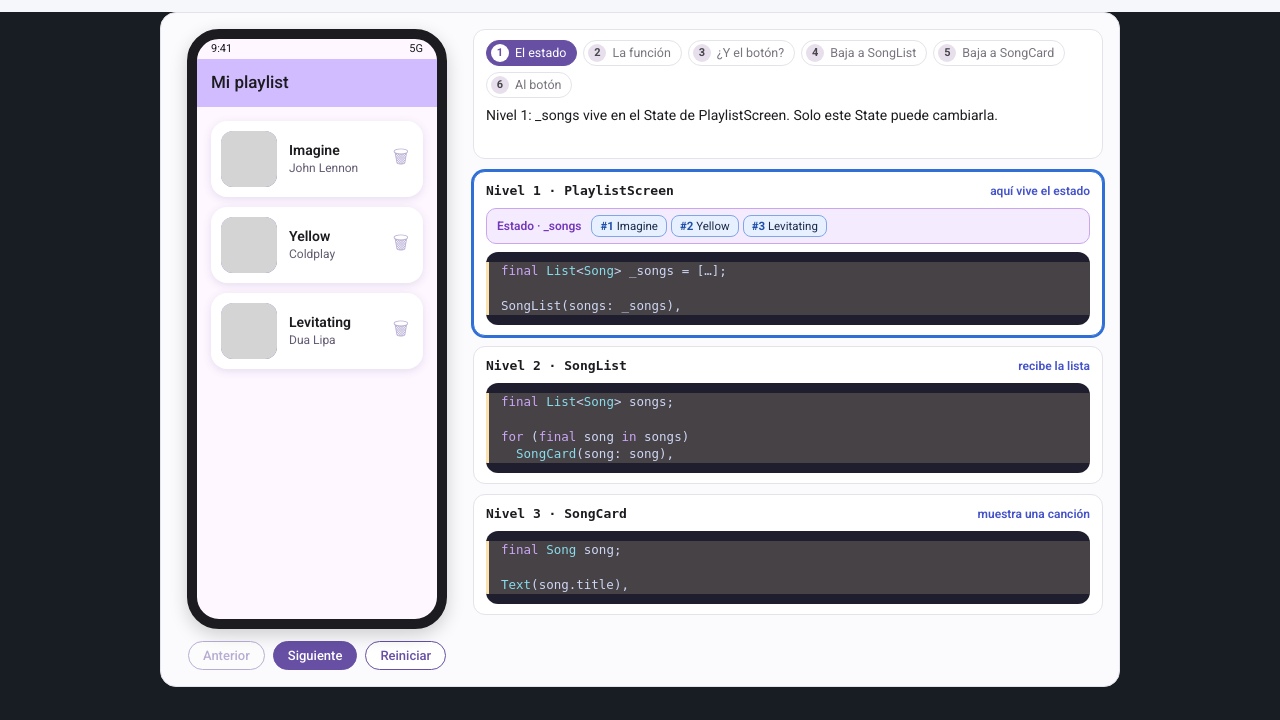
Test: callback › builds the path step by step and only then enables the trash cans
Expected: the button named "Quitar Yellow" is disabled, [389,228,413,262]
Click the button "Siguiente" at (315, 656), box [273,641,357,670]
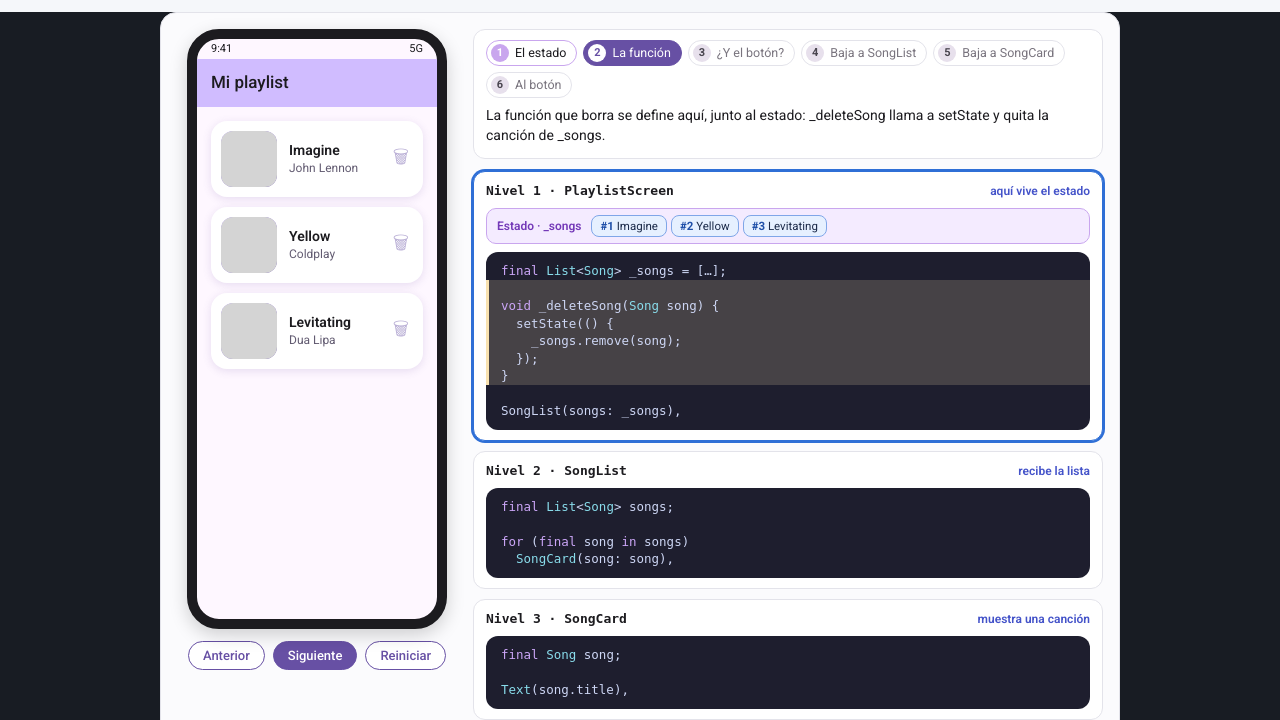
Expected: the element that starts with "Nivel 1 · PlaylistScreen" shows "_deleteSong", [531,298,629,313]
Click the button "Siguiente" at (315, 656), box [273,641,357,670]
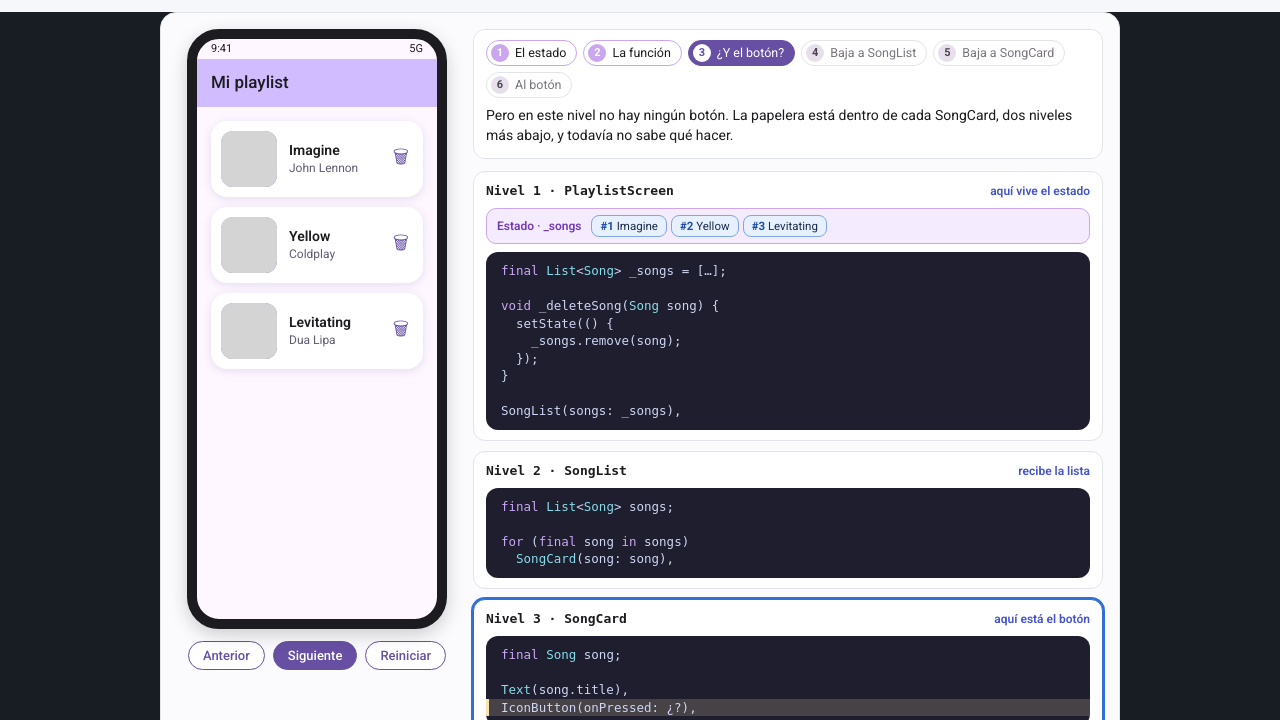
Expected: the element that starts with "Nivel 3 · SongCard" shows "¿?", [501,700,697,715]
Click the button "Siguiente" at (315, 656), box [273,641,357,670]
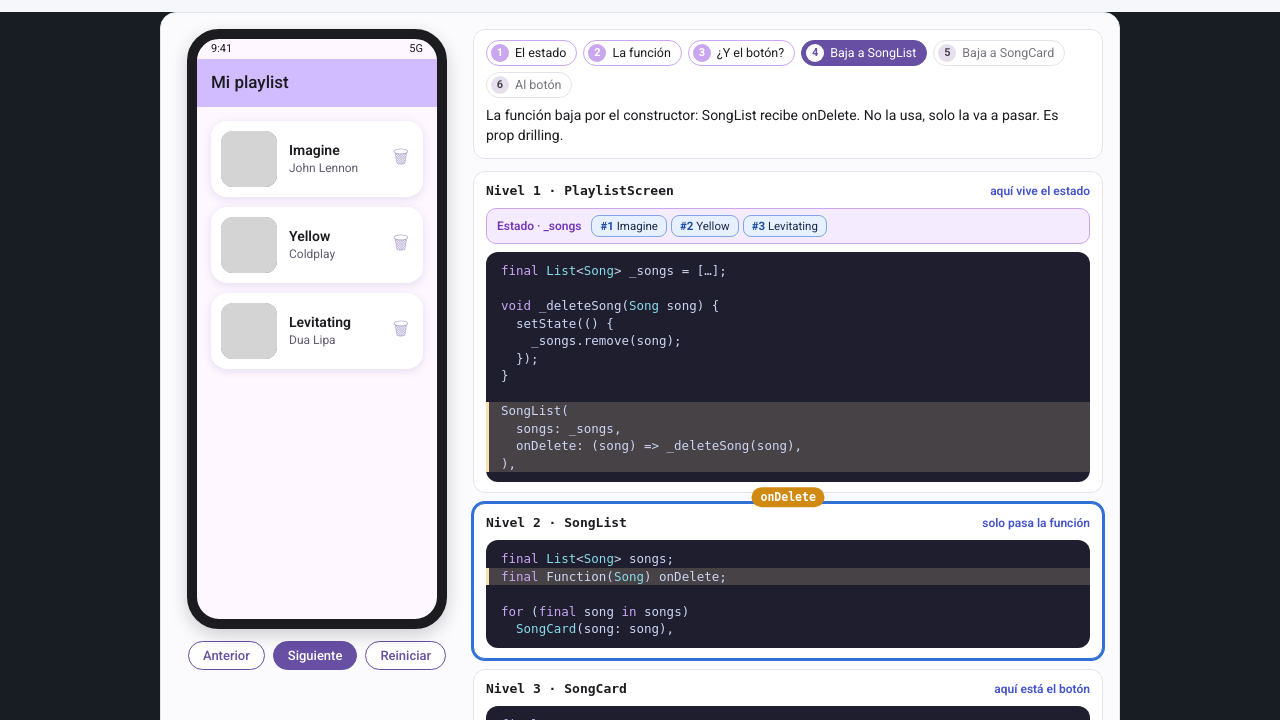
Expected: the element that starts with "Nivel 2 · SongList" shows "final Function(Song) onDelete;", [473,503,1103,659]
Click the button "Siguiente" at (315, 656), box [273,641,357,670]
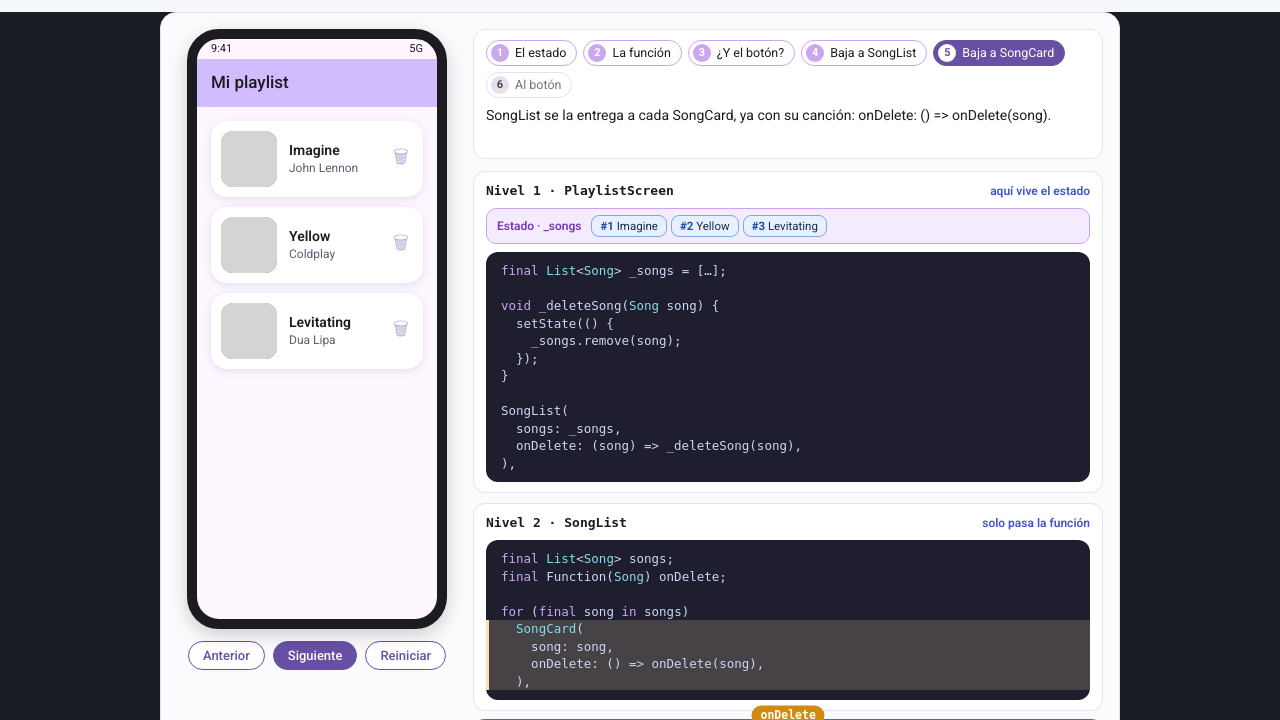
Click the button "Siguiente" at (315, 656), box [273,641,357,670]
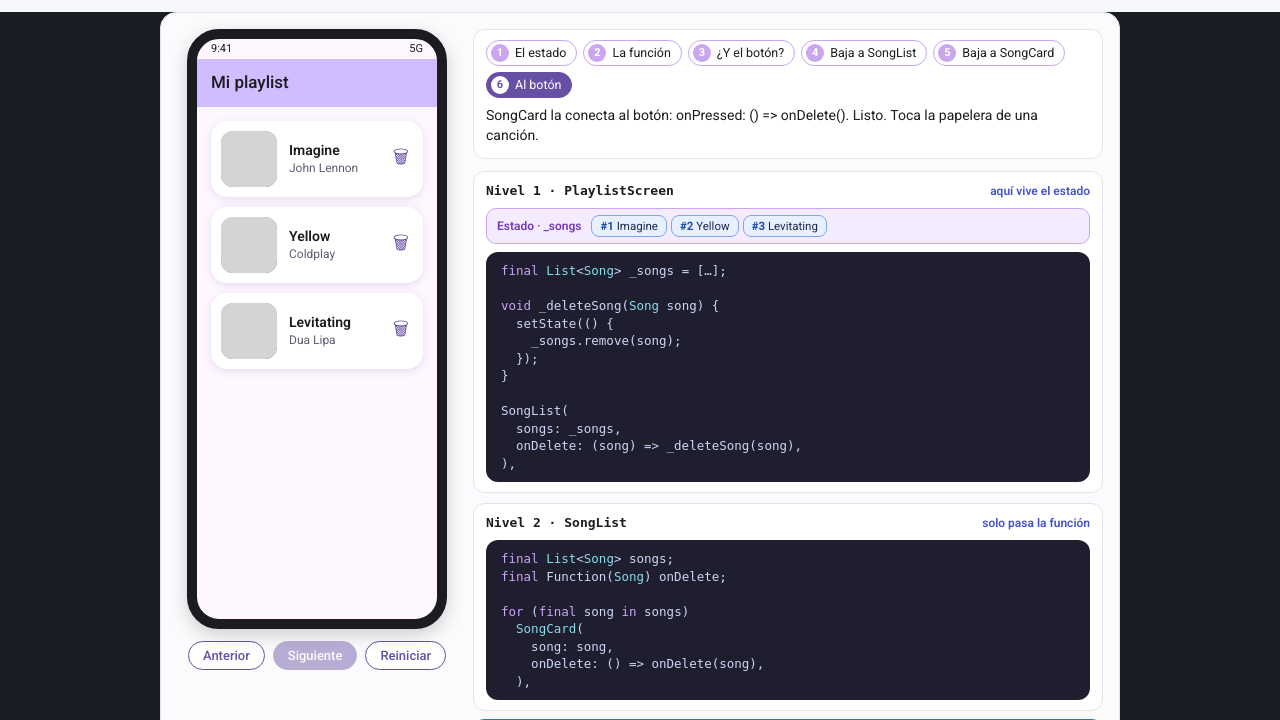
Expected: the button named "Quitar Yellow" is enabled, [389,228,413,262]
